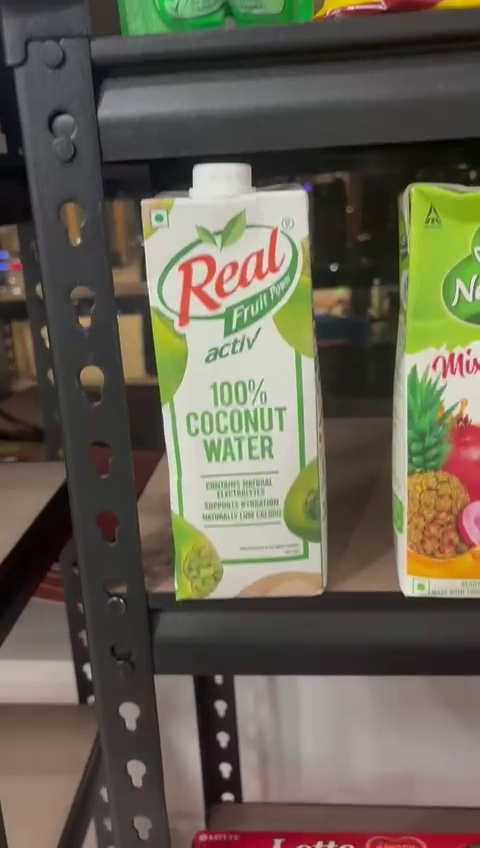Coconut water: (158, 163, 324, 598)
